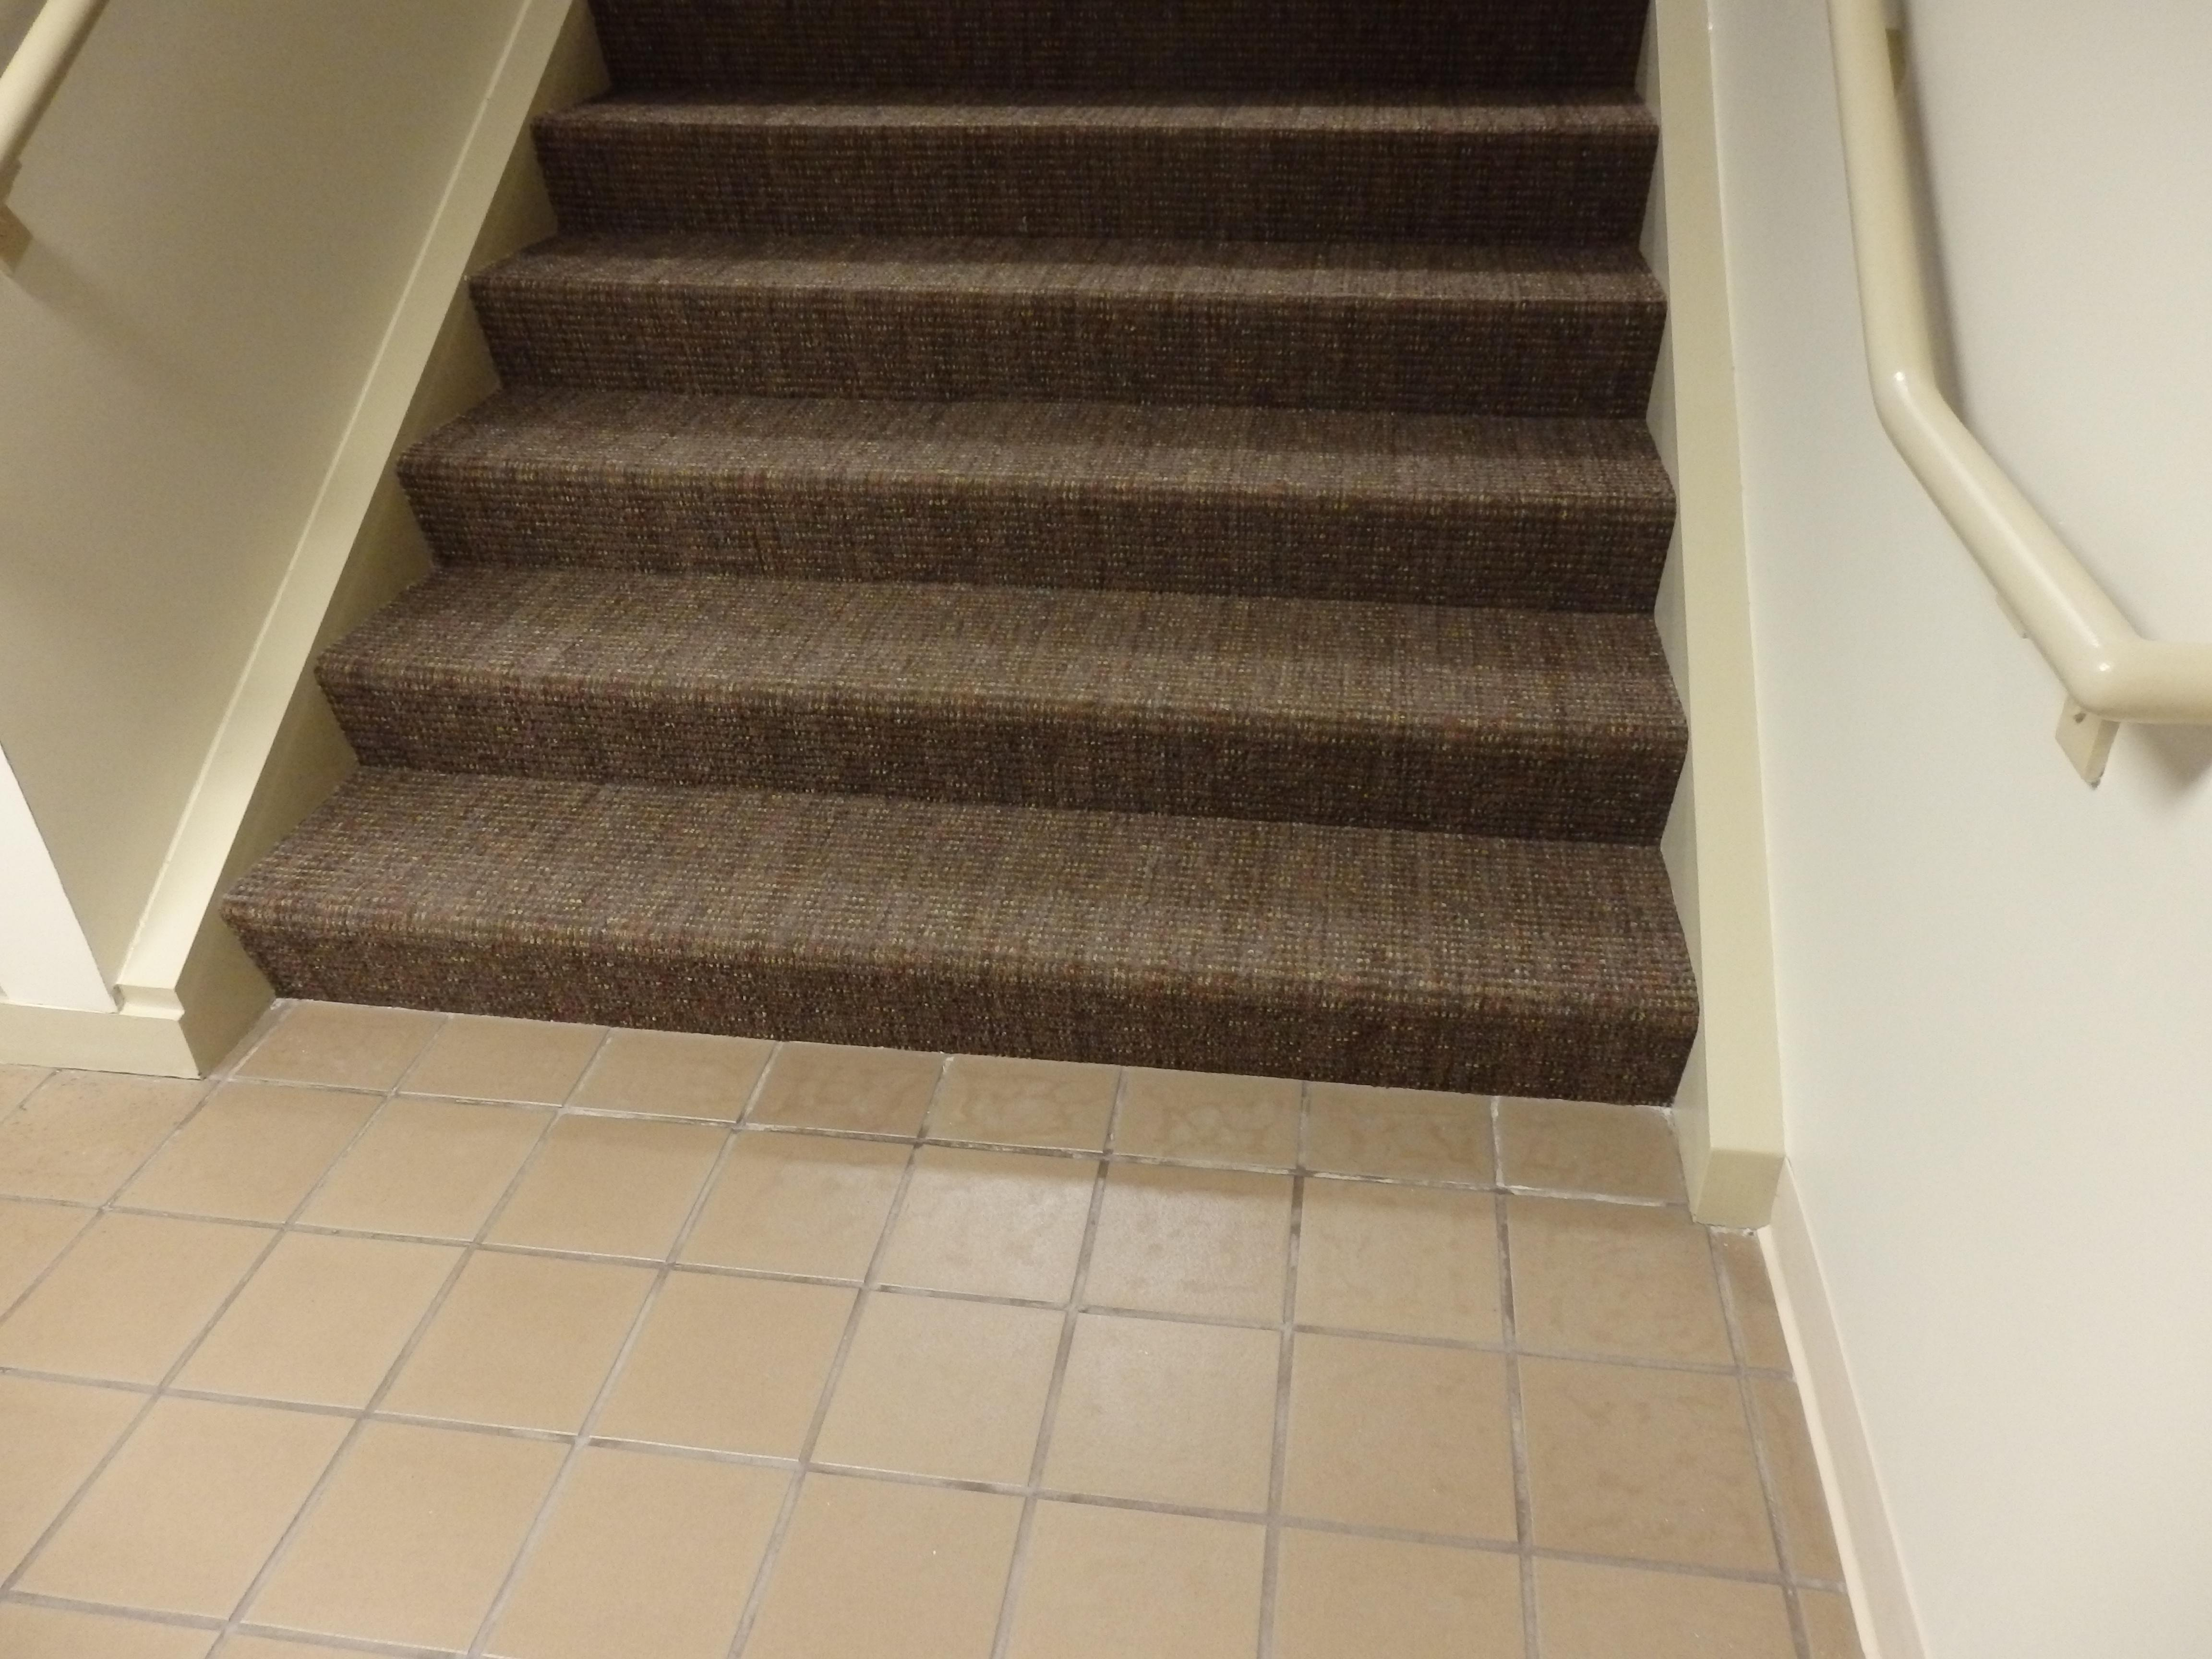stairs_up: (247, 19, 1698, 1103)
